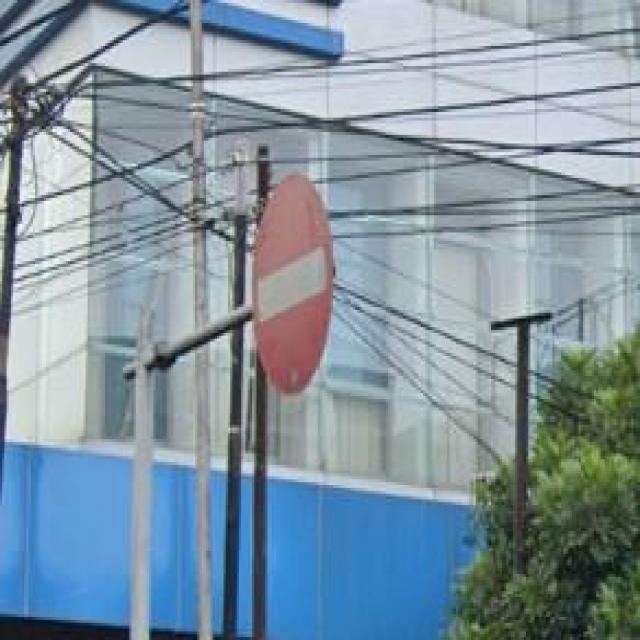traffic sign: (252, 178, 336, 393)
